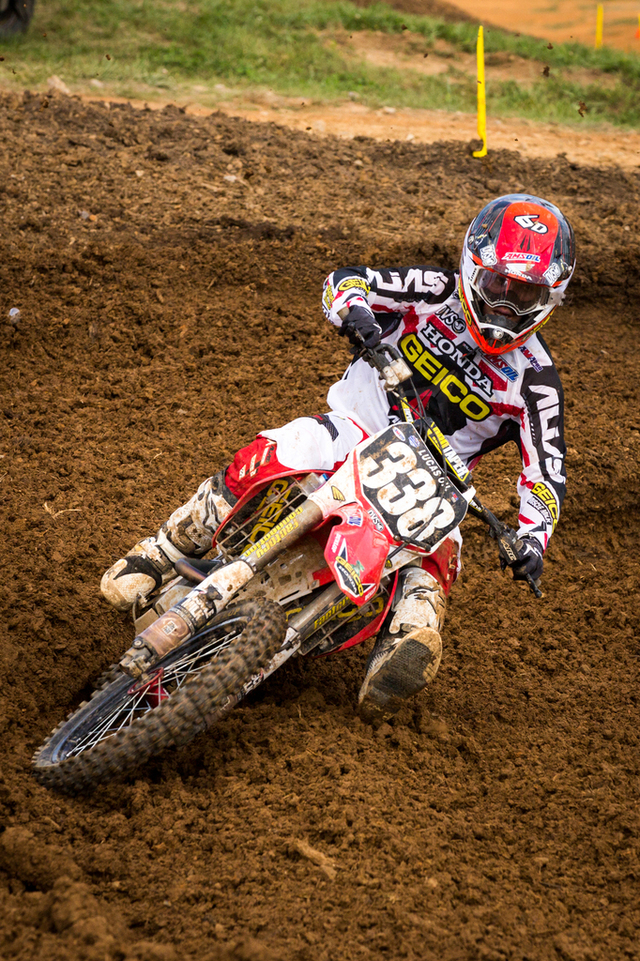helmet: (466, 200, 578, 344)
